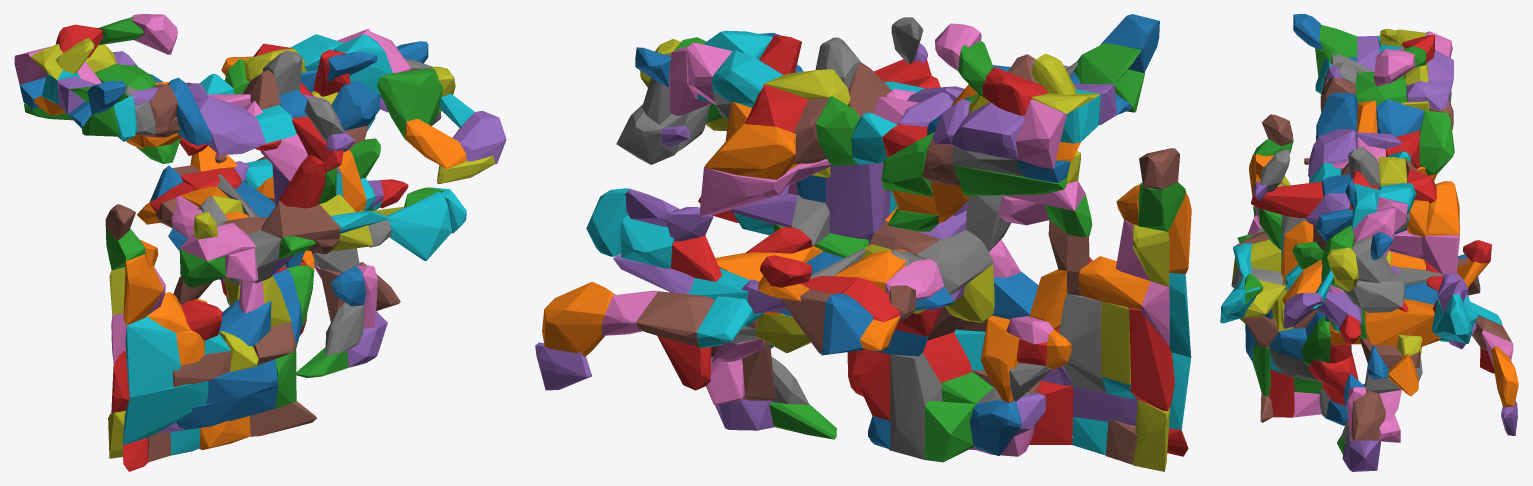
The model's file is decomp.obj.
The picture shows the model from 3 angles, left to right: view 1: azimuth 30°, elevation 25°; view 2: azimuth 150°, elevation 25°; view 3: azimuth 270°, elevation 25°; orthographic projection. The views are drawn at different scales.
Parts seen in each view (by area): view 1: /home/hongchix/main/codes/outdoor_relighting_nerf/results/colmap; view 2: /home/hongchix/main/codes/outdoor_relighting_nerf/results/colmap; view 3: /home/hongchix/main/codes/outdoor_relighting_nerf/results/colmap.
Part boxes in pixels (x1=…): /home/hongchix/main/codes/outdoor_relighting_nerf/results/colmap: x1=14, y1=14, x2=506, y2=471; /home/hongchix/main/codes/outdoor_relighting_nerf/results/colmap: x1=535, y1=14, x2=1191, y2=471; /home/hongchix/main/codes/outdoor_relighting_nerf/results/colmap: x1=1220, y1=14, x2=1518, y2=471.
Size of the model in its own units: 2.55 by 2.27 by 1.83.
